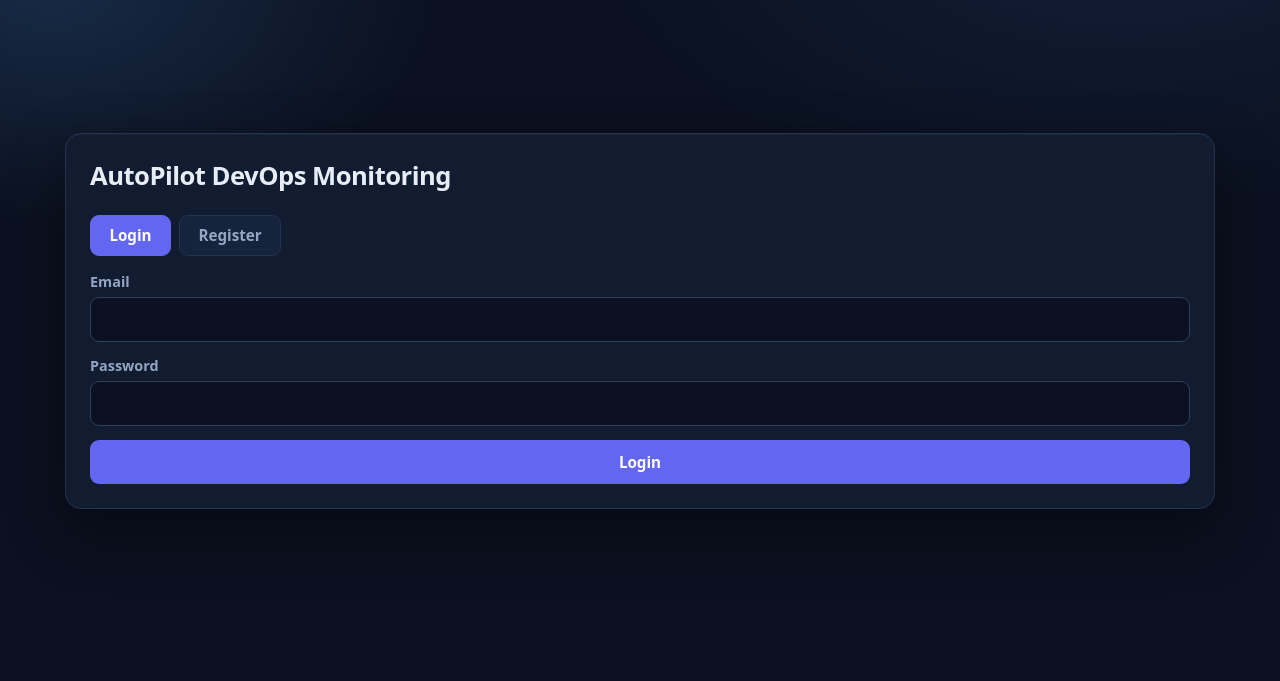
Scenario: App › logs in and renders dashboard
Type "ravidu@gmail.com" into the field labelled "Email" at (640, 320), box [90,297,1190,342]
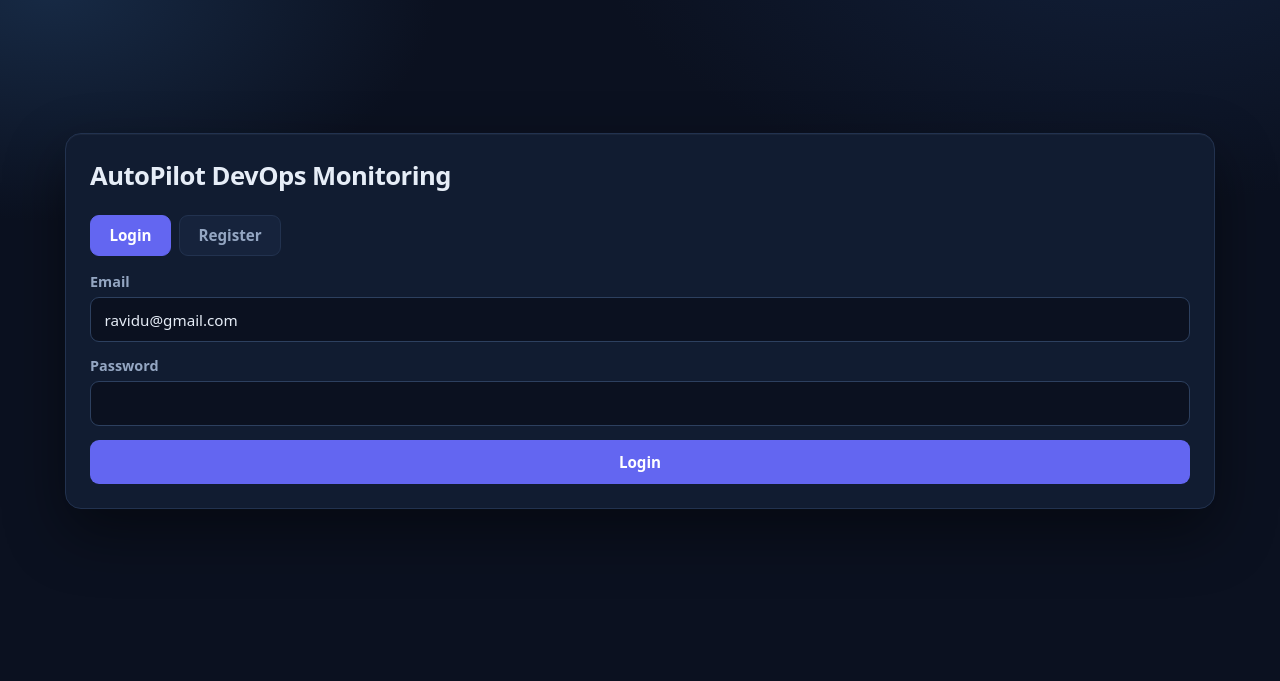
Type "123456789" into the password field labelled "Password" at (640, 404), box [90,381,1190,426]
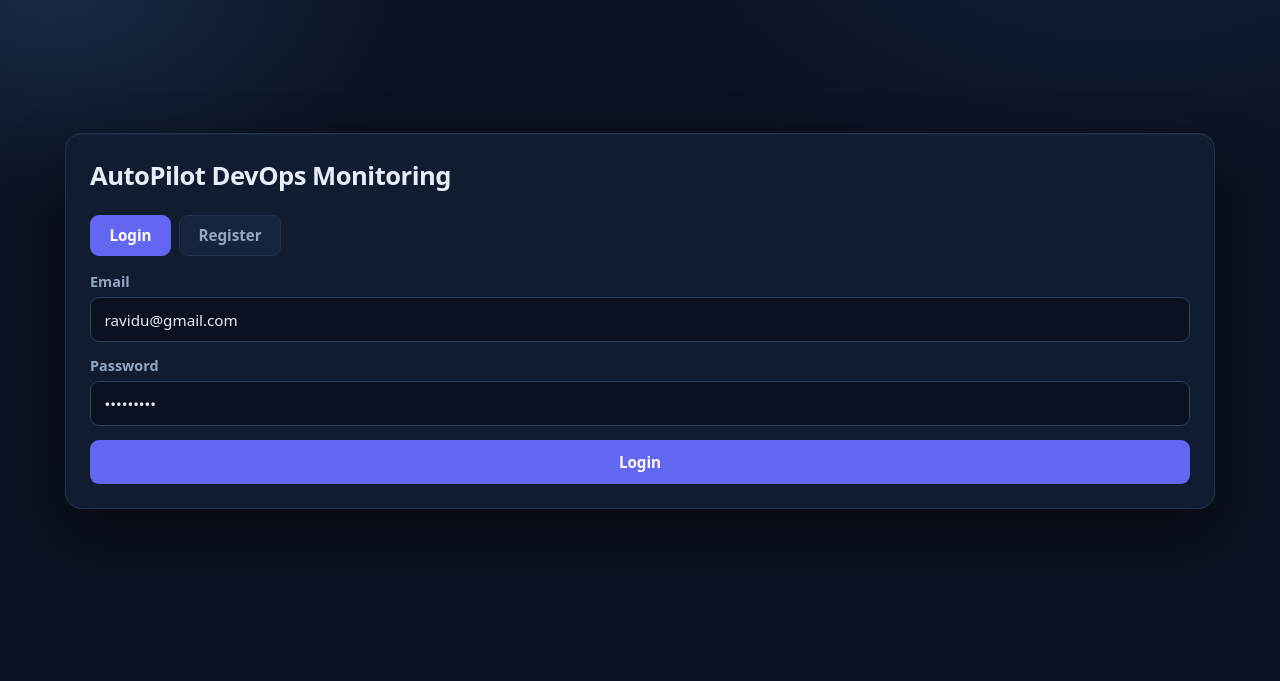
Submit the form labelled "Password", box [90,272,1190,484]
(page scrolled)
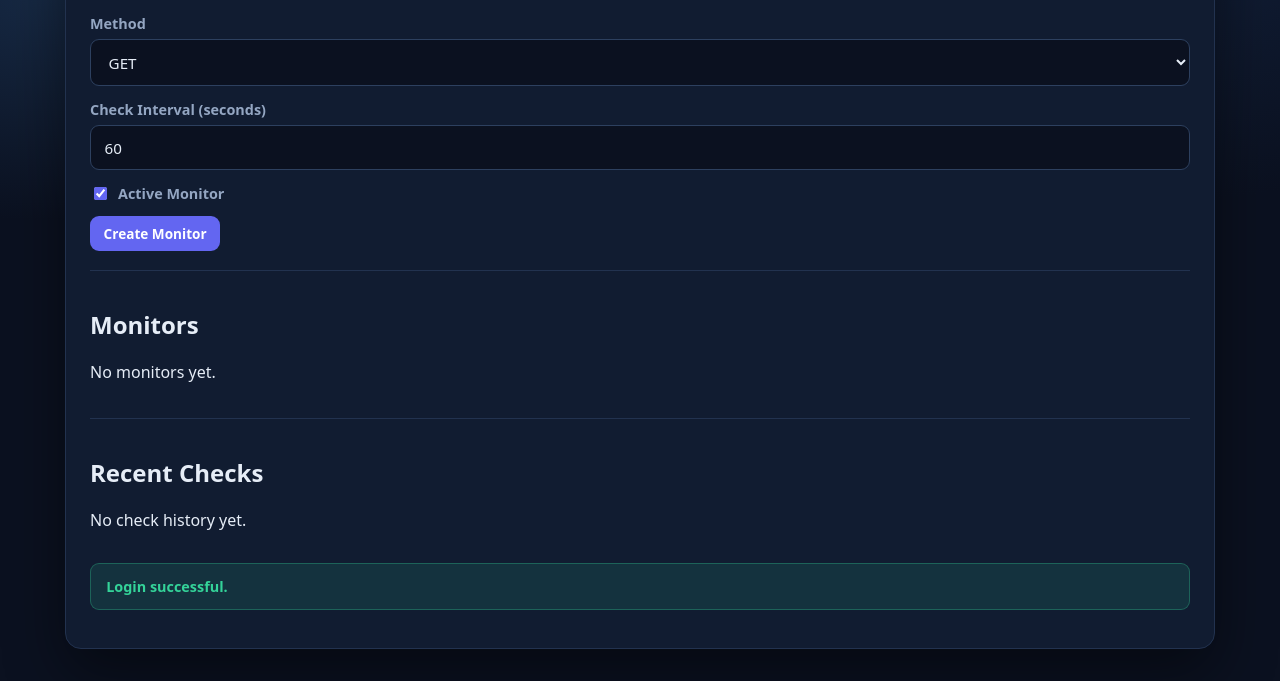
Check: the text "Login successful." is shown, box [90,563,1190,610]
